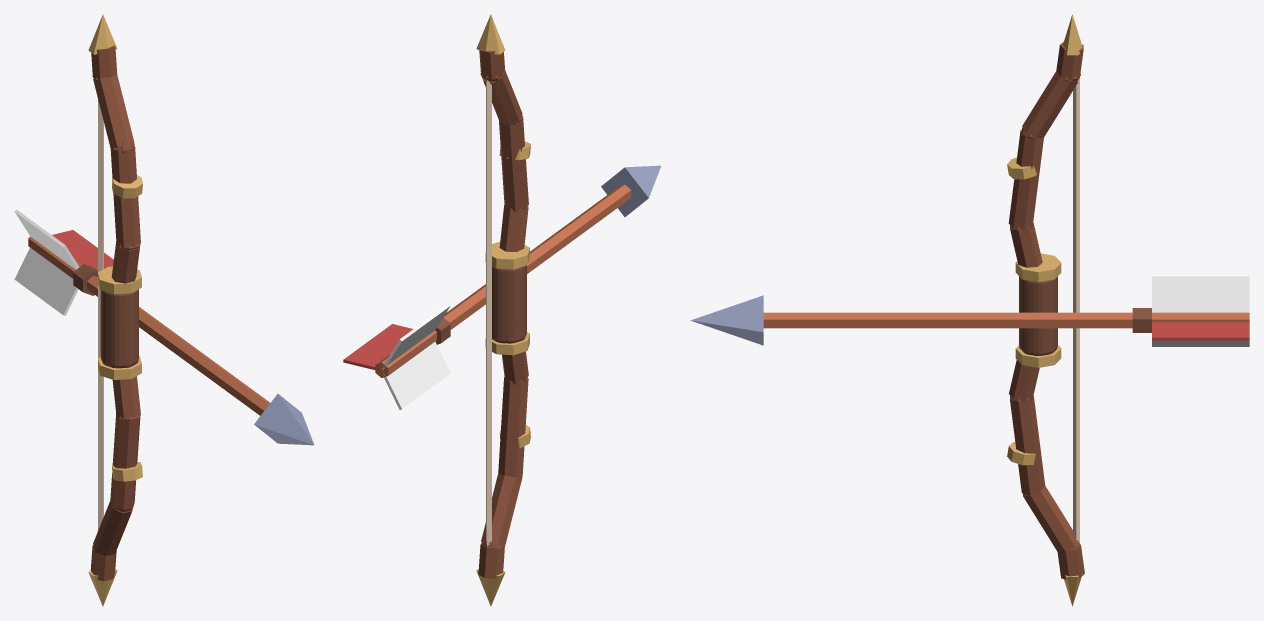
The model's file is weapon-bow.glb.
The picture shows the model from 3 angles, left to right: view 1: azimuth 30°, elevation 25°; view 2: azimuth 150°, elevation 25°; view 3: azimuth 270°, elevation 25°; orthographic projection.
Parts seen in each view (by area): view 1: bow, nocked; view 2: bow, nocked; view 3: bow, nocked.
Boxes of the visible parts, left/top/right/bottom form: bow: left=88, top=14, right=142, bottom=606; nocked: left=14, top=209, right=314, bottom=445; bow: left=476, top=14, right=530, bottom=606; nocked: left=343, top=165, right=661, bottom=409; bow: left=1007, top=14, right=1084, bottom=606; nocked: left=690, top=276, right=1249, bottom=346.
Size of the model in its own units: 0.1151 by 0.83 by 0.7099.
1 material, 1 textured.
